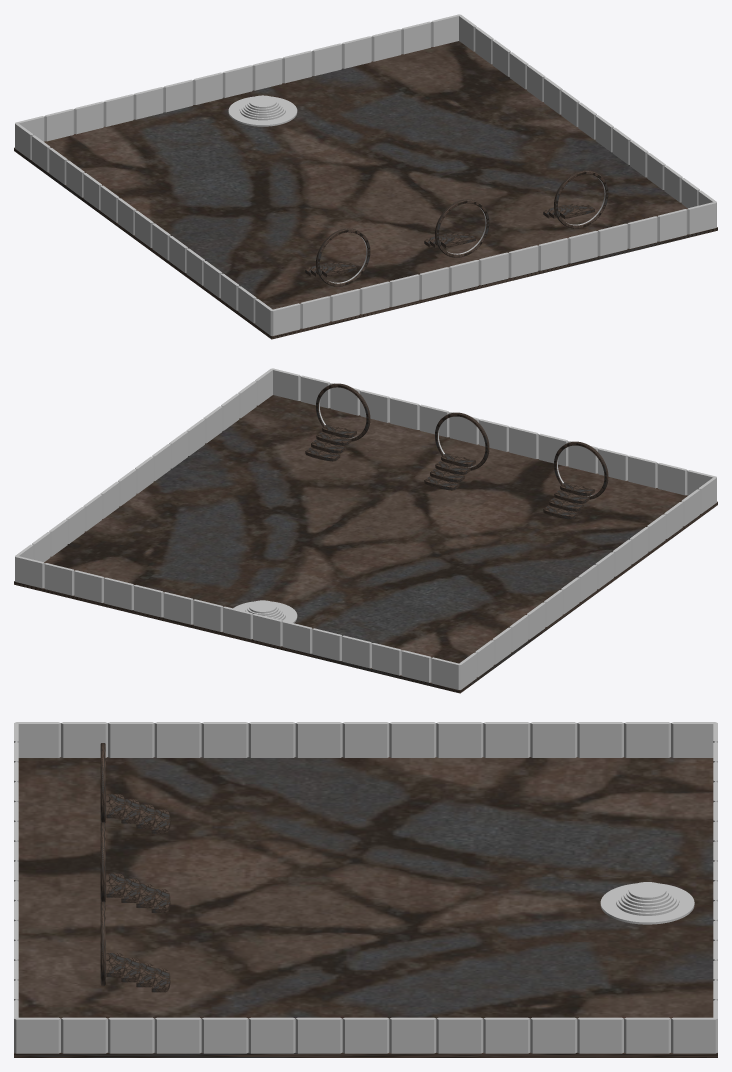
File: Spawn room.obj
3 renders of one model, top to bottom at view 1: azimuth 30°, elevation 25°; view 2: azimuth 150°, elevation 25°; view 3: azimuth 270°, elevation 25°, orthographic. The views are drawn at different scales.
Visible parts, largest first — view 1: Cube_Cube.001, Cylinder.003, Cylinder.002, Cylinder, Cylinder.001, Cube.018_Cube.020, Cube.022_Cube.024, Cube.025_Cube.027, Cube.029_Cube.031, Cube.007_Cube.009, Cube.014_Cube.016, Cube.003_Cube.005 (+22 smaller); view 2: Cube_Cube.001, Cylinder, Cylinder.002, Cylinder.001, Cylinder.003, Cube.003_Cube.005, Cube.007_Cube.009, Cube.010_Cube.012, Cube.014_Cube.016, Cube.009_Cube.011, Cube.025_Cube.027, Cube.001_Cube.003 (+22 smaller); view 3: Cube_Cube.001, Cylinder.003, Cylinder.002, Cylinder.001, Cylinder, Cube.032_Cube.034, Cube.035_Cube.037, Cube.042_Cube.044, Cube.045_Cube.047, Cube.031_Cube.033, Cube.033_Cube.035, Cube.034_Cube.036 (+23 smaller).
Part boxes in pixels (<box>): Cube_Cube.001: <box>14,41,717,339</box>; Cylinder.003: <box>228,95,297,126</box>; Cylinder.002: <box>543,170,608,228</box>; Cylinder: <box>424,199,489,257</box>; Cylinder.001: <box>305,228,370,286</box>; Cube.018_Cube.020: <box>538,238,568,270</box>; Cube.022_Cube.024: <box>657,209,687,241</box>; Cube.025_Cube.027: <box>300,296,330,328</box>; Cube.029_Cube.031: <box>419,267,449,299</box>; Cube.007_Cube.009: <box>401,21,431,54</box>; Cube.014_Cube.016: <box>163,79,193,112</box>; Cube.003_Cube.005: <box>282,50,312,83</box>; Cube_Cube.001: <box>14,395,717,693</box>; Cylinder: <box>424,412,489,490</box>; Cylinder.002: <box>305,383,370,461</box>; Cylinder.001: <box>543,441,608,519</box>; Cylinder.003: <box>233,600,297,623</box>; Cube.003_Cube.005: <box>163,592,193,624</box>; Cube.007_Cube.009: <box>44,563,74,595</box>; Cube.010_Cube.012: <box>401,650,431,682</box>; Cube.014_Cube.016: <box>282,621,312,653</box>; Cube.009_Cube.011: <box>431,657,461,689</box>; Cube.025_Cube.027: <box>657,463,687,495</box>; Cube.001_Cube.003: <box>223,606,252,639</box>; Cube_Cube.001: <box>14,757,717,1057</box>; Cylinder.003: <box>600,882,694,924</box>; Cylinder.002: <box>100,901,170,992</box>; Cylinder.001: <box>100,743,170,833</box>; Cylinder: <box>100,822,170,912</box>; Cube.032_Cube.034: <box>389,1017,436,1053</box>; Cube.035_Cube.037: <box>530,1017,577,1053</box>; Cube.042_Cube.044: <box>154,1017,201,1053</box>; Cube.045_Cube.047: <box>295,1017,342,1053</box>; Cube.031_Cube.033: <box>342,1017,389,1053</box>; Cube.033_Cube.035: <box>436,1017,483,1053</box>; Cube.034_Cube.036: <box>483,1017,530,1053</box>.
Bounding box in the file's own units: 37.5 × 4.88 × 37.5.
